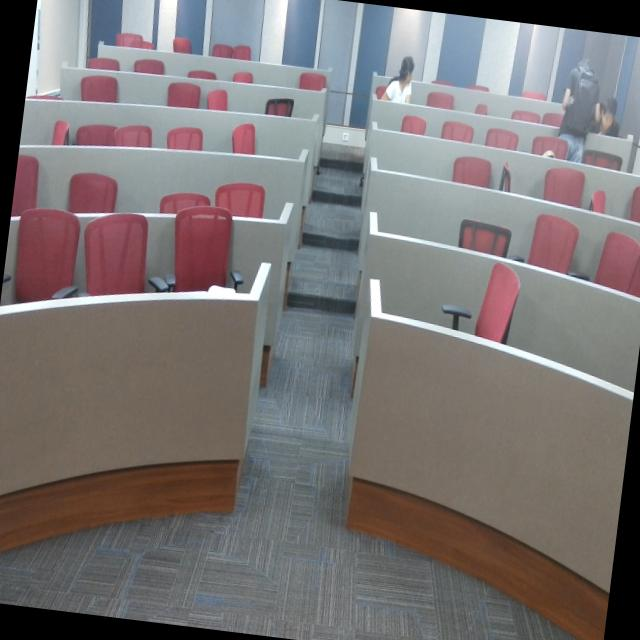cheating: (375, 42, 423, 116)
